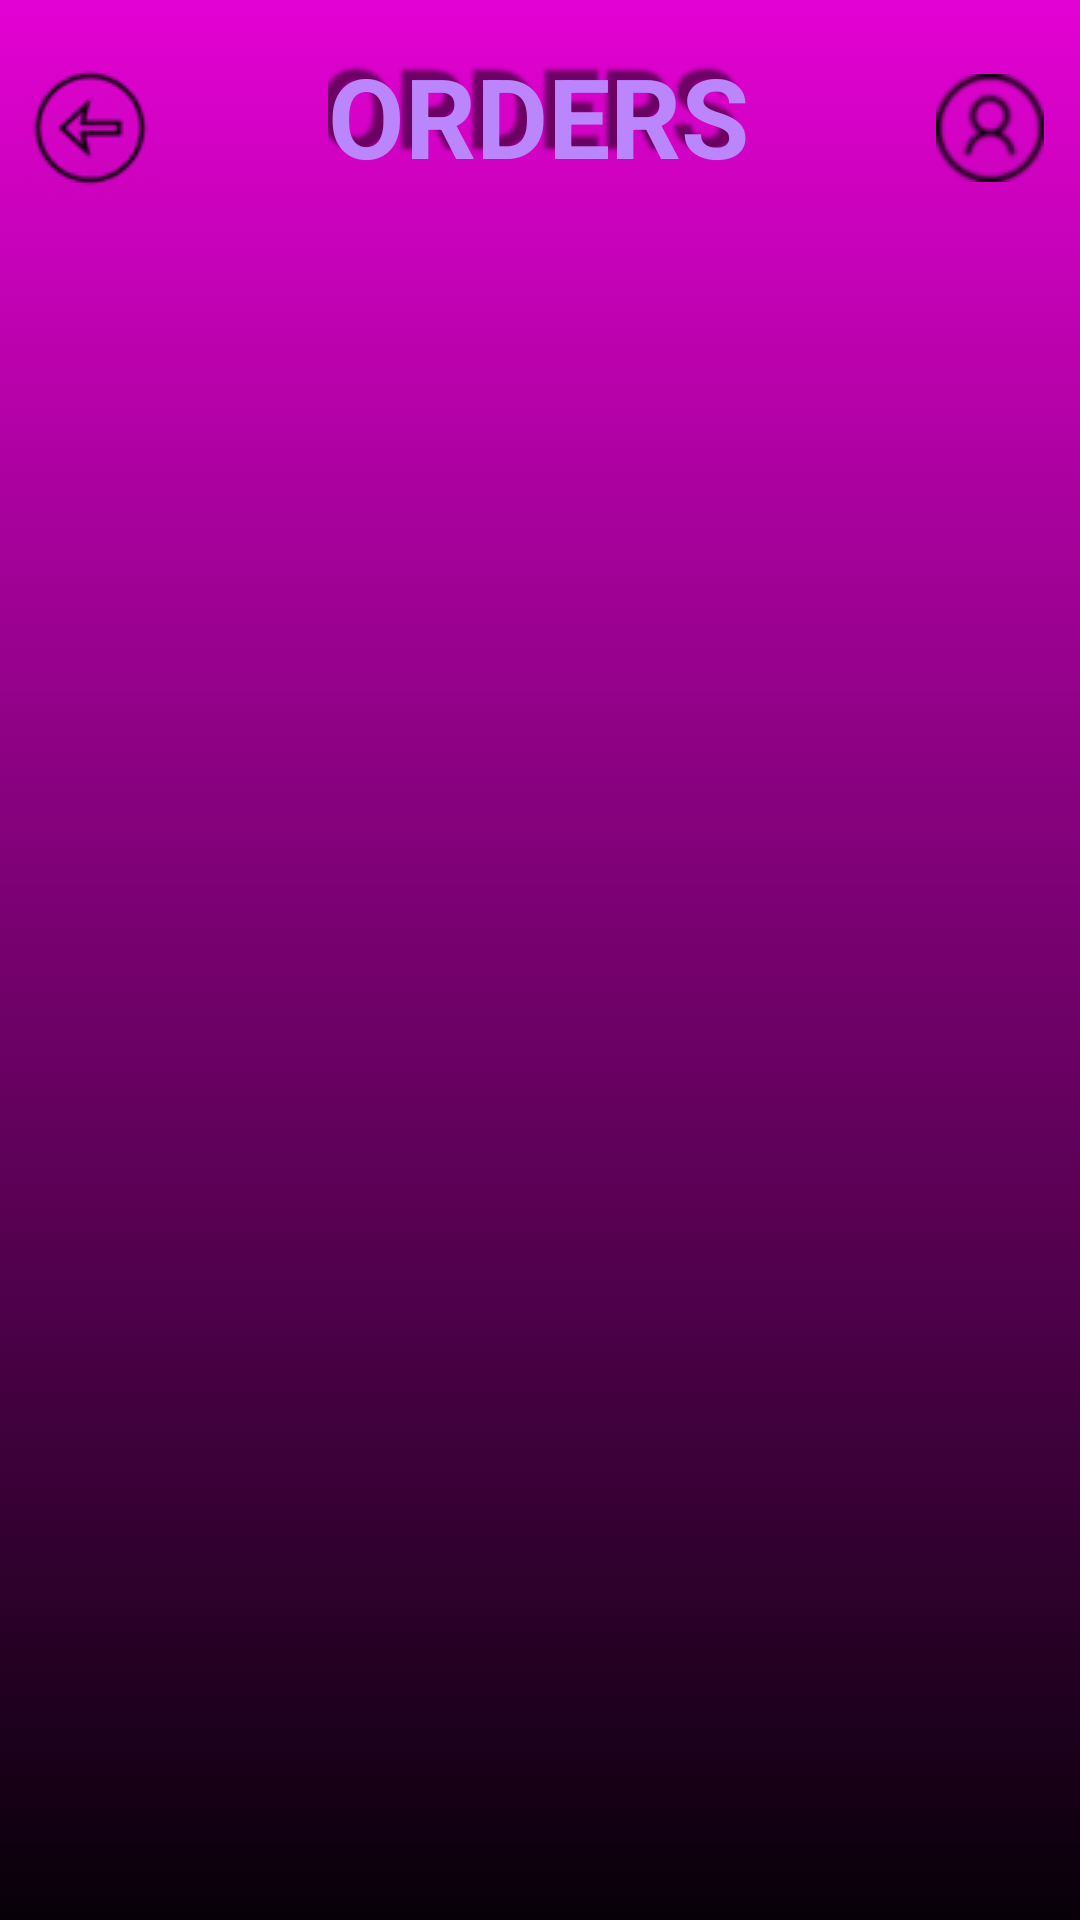

Where icons sit on this 1080*1920 app screen, as region(x1, y1, x2, y2):
backbutton: region(33, 71, 147, 186)
profilepic: region(936, 74, 1044, 182)
